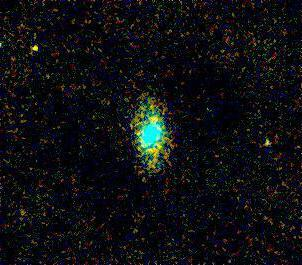star: (21, 34, 51, 64)
